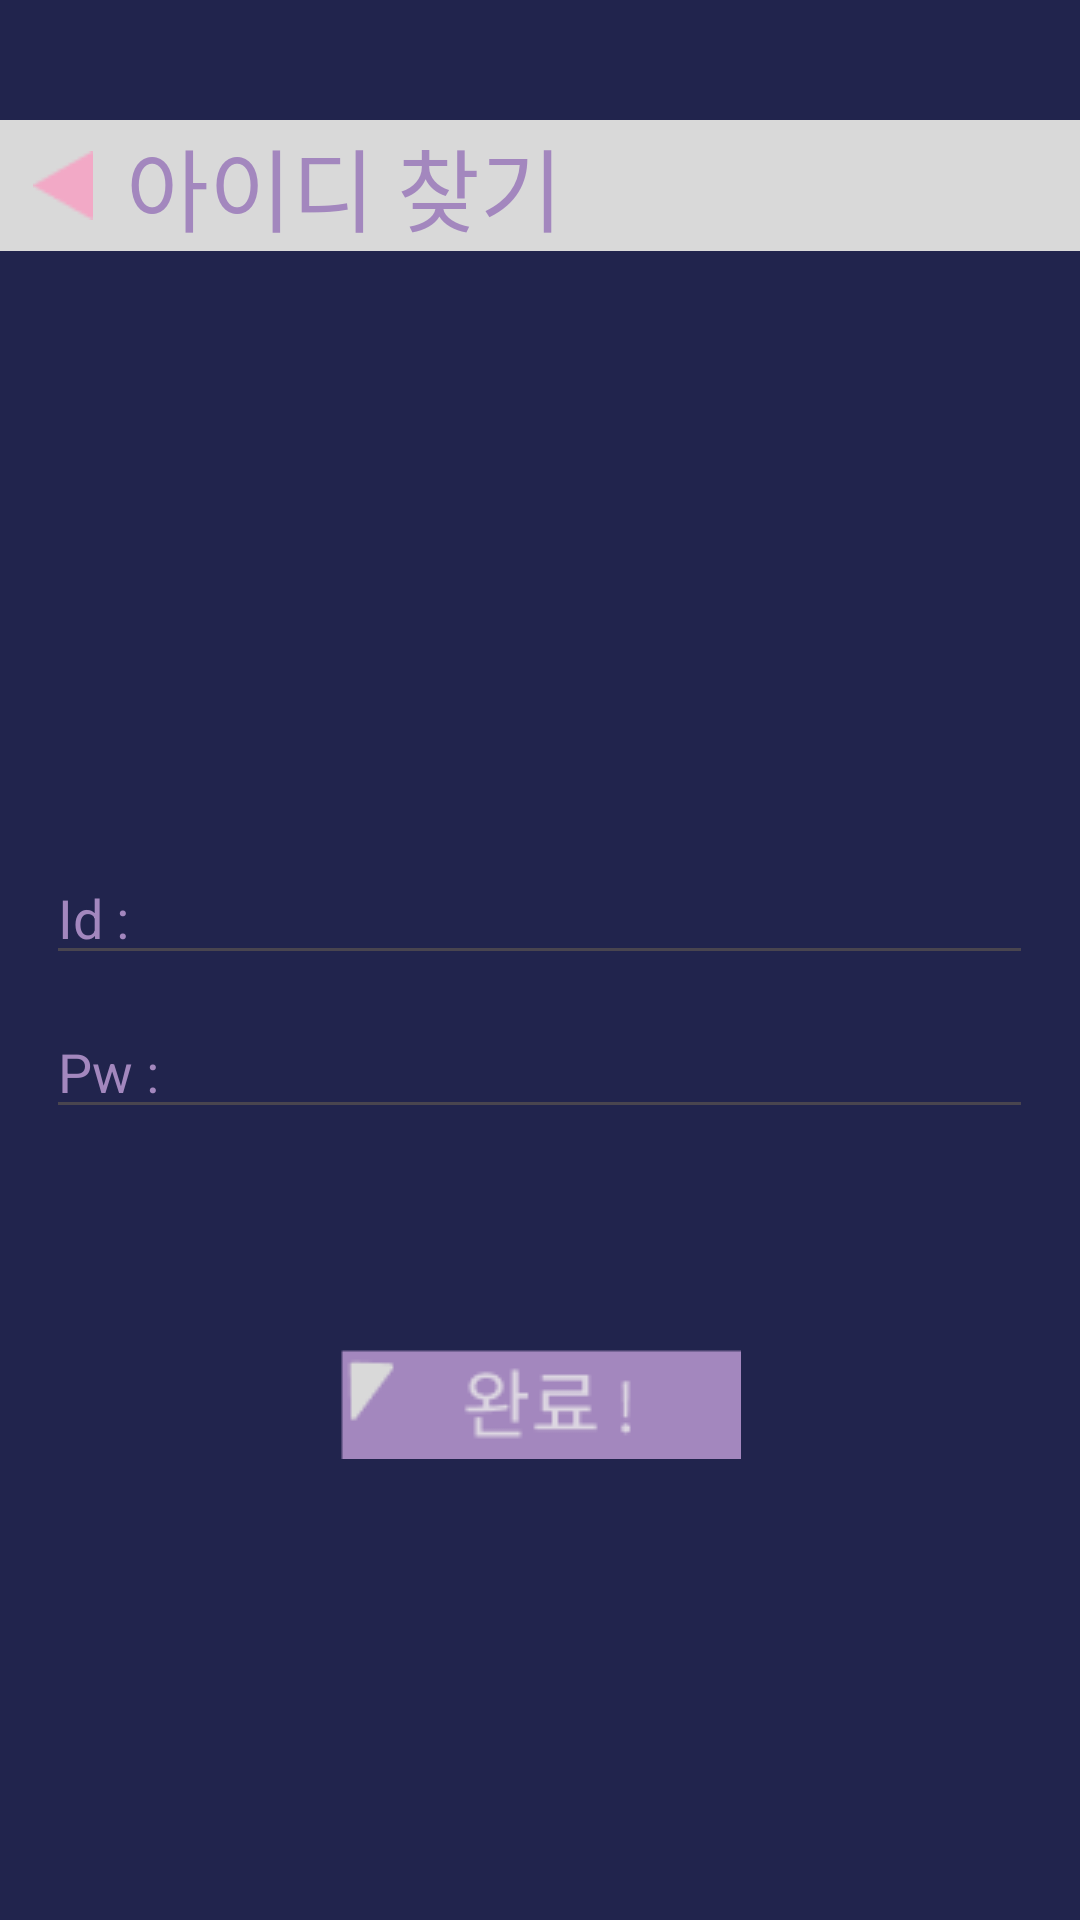

Locate icon controls on the screen. Image size 1080×1920, boxes as {"x1": x1, "y1": y1, "x2": x2, "y2": y2}.
join arrow: {"x1": 33, "y1": 151, "x2": 93, "y2": 220}
